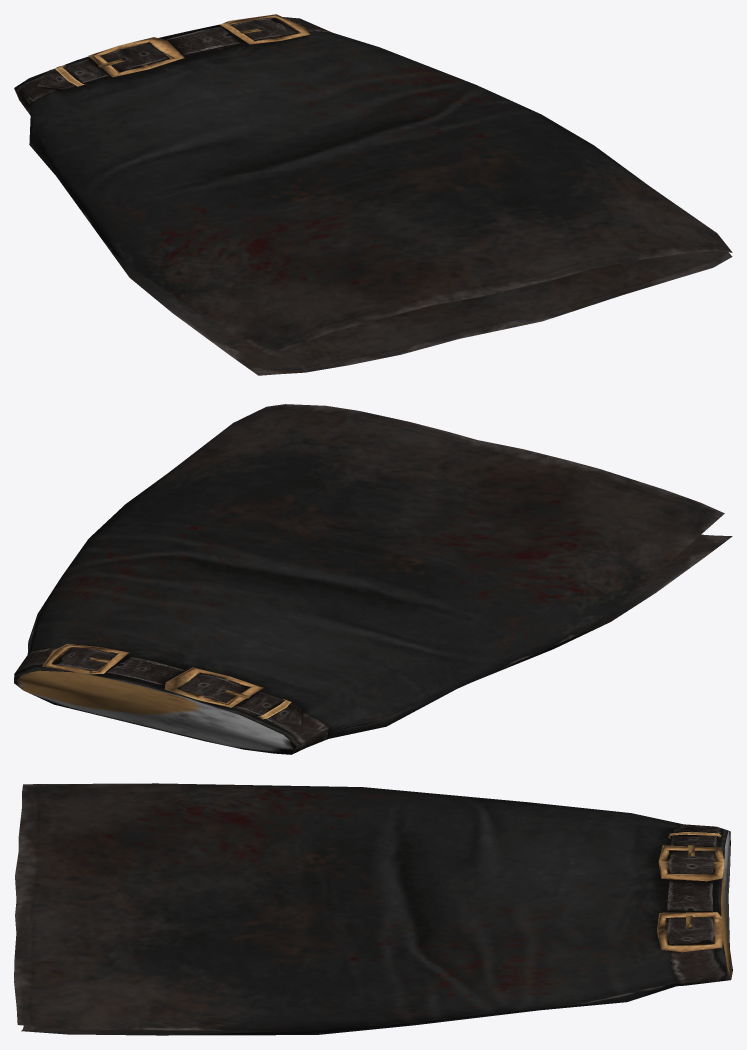
File: PencilSkirt_Ground.fbx
3 renders of one model, top to bottom at view 1: azimuth 30°, elevation 25°; view 2: azimuth 150°, elevation 25°; view 3: azimuth 270°, elevation 25°, orthographic. The views are drawn at different scales.
Visible parts, largest first — view 1: PencilSkirt; view 2: PencilSkirt; view 3: PencilSkirt.
Boxes of the visible parts, <box> form: PencilSkirt: <box>14,14,732,375</box>; PencilSkirt: <box>14,404,732,754</box>; PencilSkirt: <box>14,783,732,1035</box>.
Bounding box in the file's own units: 0.2279 × 0.0243 × 0.2828.
